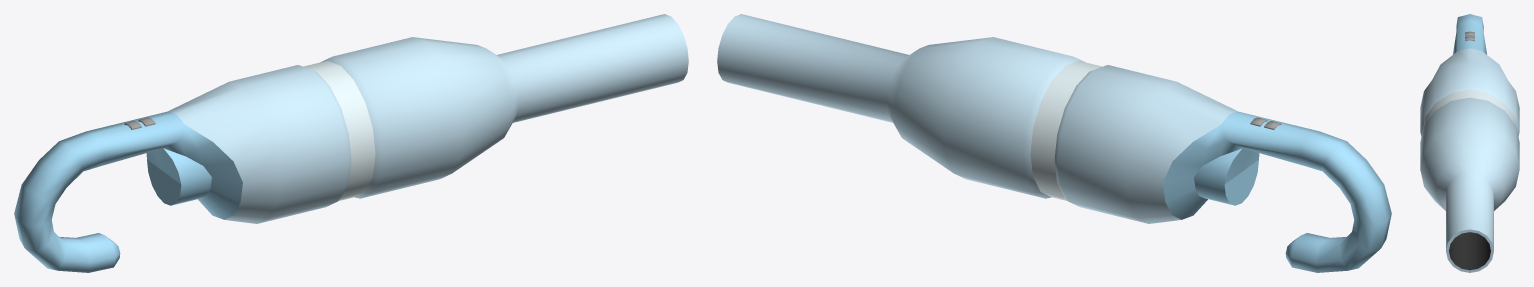
Rendered from vacuum.fbx.
3 views of the same model, side by side, from view 1: azimuth 30°, elevation 25°; view 2: azimuth 150°, elevation 25°; view 3: azimuth 270°, elevation 25° (orthographic). The views are drawn at different scales.
Visible parts, largest first — view 1: cleaner; view 2: cleaner; view 3: cleaner.
Part boxes in pixels (x1,y1,x2,y2): cleaner: (14,14,688,272); cleaner: (717,14,1391,272); cleaner: (1420,14,1519,272).
Bounding box in the file's own units: 30.12 × 6.39 × 5.82.
